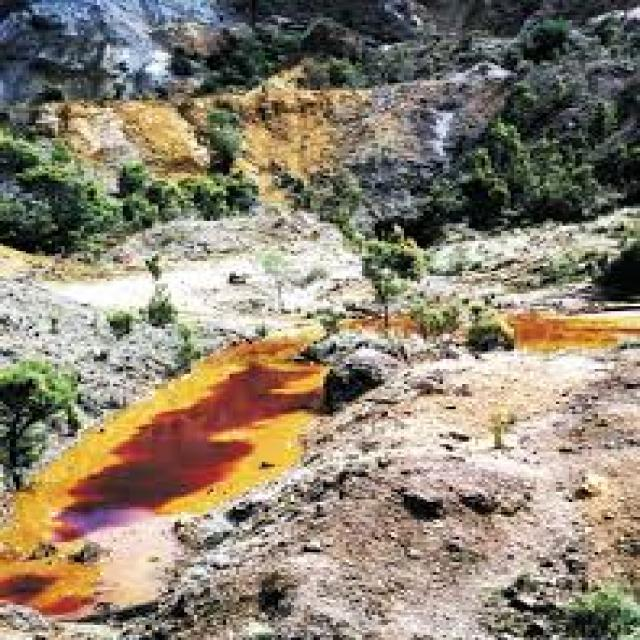yellow_boy: (0, 336, 320, 612)
